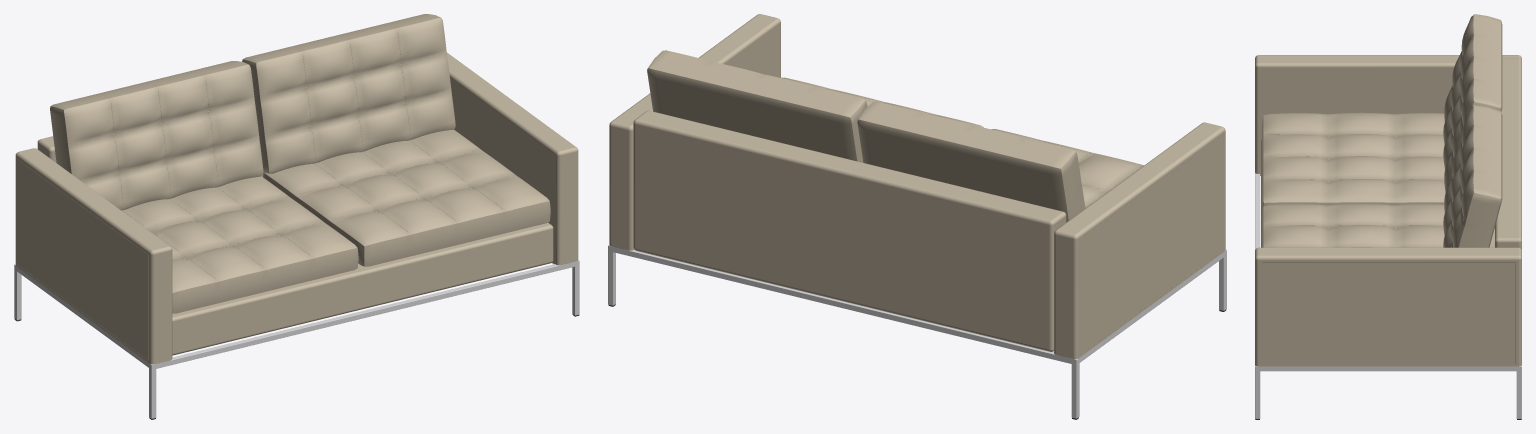
The model's file is sofa.glb.
3 views of the same model, side by side, from view 1: azimuth 30°, elevation 25°; view 2: azimuth 150°, elevation 25°; view 3: azimuth 270°, elevation 25° (orthographic). The views are drawn at different scales.
Visible parts, largest first — view 1: Ivory tailored leather, Polished square chrome frame, Ivory recessed stitching; view 2: Ivory tailored leather, Polished square chrome frame; view 3: Ivory tailored leather, Polished square chrome frame, Ivory recessed stitching.
Part boxes in pixels (box(x1,y1,x2,y2)): Ivory tailored leather: box(15, 14, 578, 364); Polished square chrome frame: box(14, 260, 579, 418); Ivory recessed stitching: box(18, 32, 513, 359); Ivory tailored leather: box(609, 14, 1225, 359); Polished square chrome frame: box(608, 245, 1226, 418); Ivory tailored leather: box(1255, 14, 1521, 366); Polished square chrome frame: box(1255, 173, 1521, 418); Ivory recessed stitching: box(1261, 134, 1515, 363).
Bounding box in the file's own units: 1.6 × 0.7937 × 0.889.
